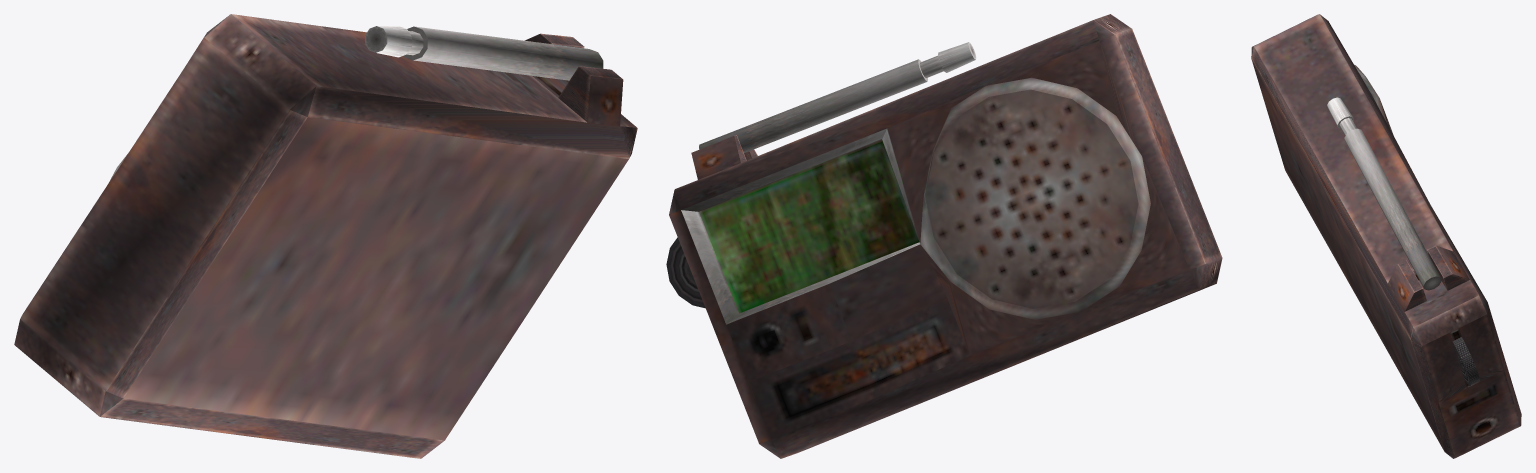
Rendered from icon.obj.
3 renders of one model, left to right at view 1: azimuth 30°, elevation 25°; view 2: azimuth 150°, elevation 25°; view 3: azimuth 270°, elevation 25°, orthographic. The views are drawn at different scales.
Size of the model in its own units: 3.88 by 3.32 by 2.28.
1 material, 1 textured.
